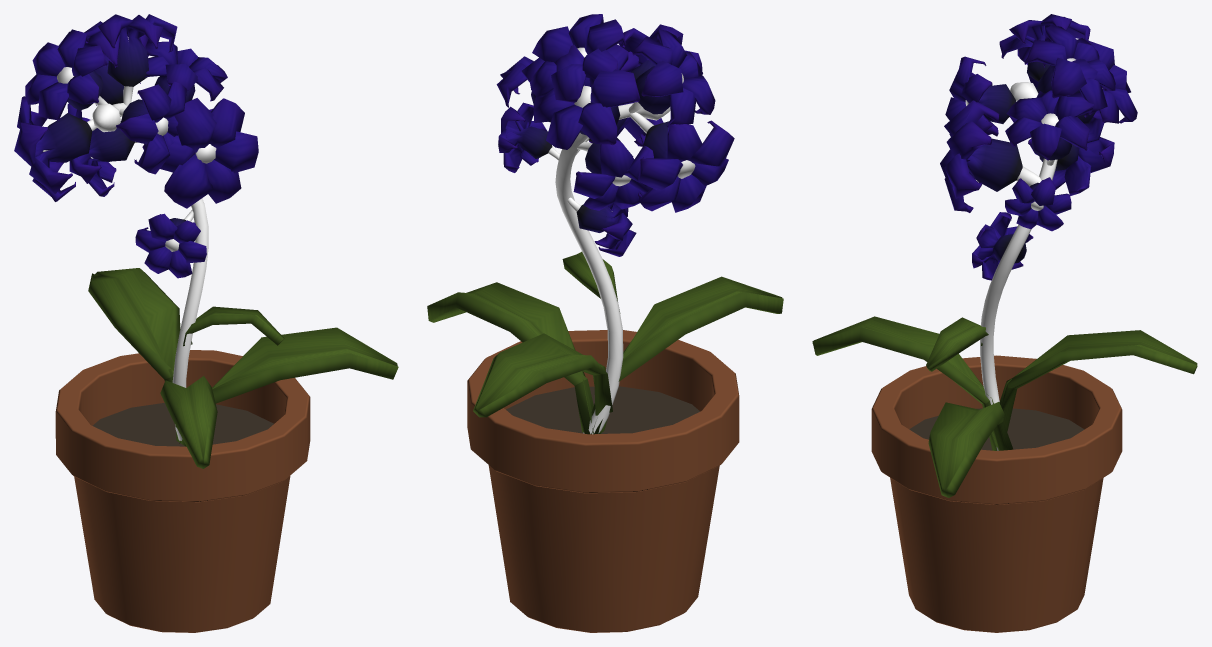
File: plant1.glb
3 views of the same model, side by side, from view 1: azimuth 30°, elevation 25°; view 2: azimuth 150°, elevation 25°; view 3: azimuth 270°, elevation 25° (orthographic). The views are drawn at different scales.
Visible parts, largest first — view 1: Potted Plant - Bluebell.001; view 2: Potted Plant - Bluebell.001; view 3: Potted Plant - Bluebell.001.
Boxes of the visible parts, x1=… form: Potted Plant - Bluebell.001: x1=14, y1=14, x2=398, y2=632; Potted Plant - Bluebell.001: x1=427, y1=14, x2=783, y2=632; Potted Plant - Bluebell.001: x1=812, y1=14, x2=1197, y2=632.
Bounding box in the file's own units: 0.1601 × 0.2635 × 0.1666.
Materials: 6 (2 with a texture image).
